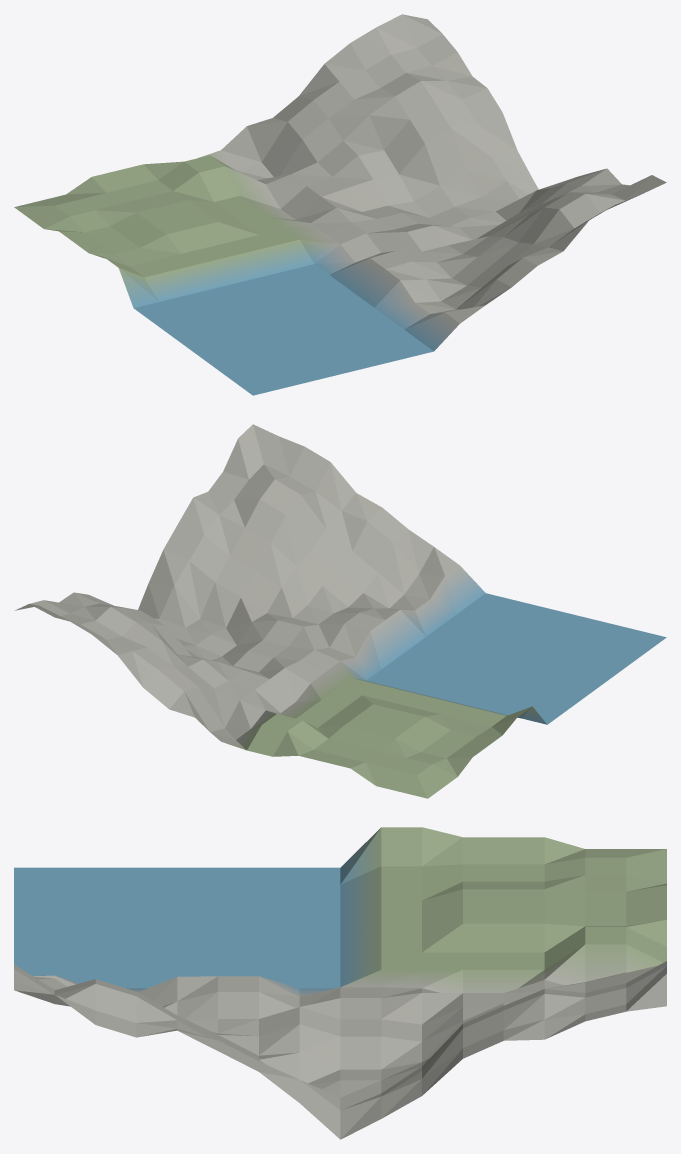
The picture shows the model from 3 angles, top to bottom: view 1: azimuth 30°, elevation 25°; view 2: azimuth 150°, elevation 25°; view 3: azimuth 270°, elevation 25°; orthographic projection. The views are drawn at different scales.
Bounding box in the file's own units: 32 × 8.28 × 32.
